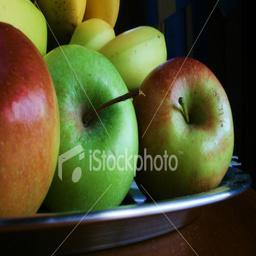apple: (38, 47, 138, 215), (132, 57, 234, 199), (1, 26, 66, 222)
